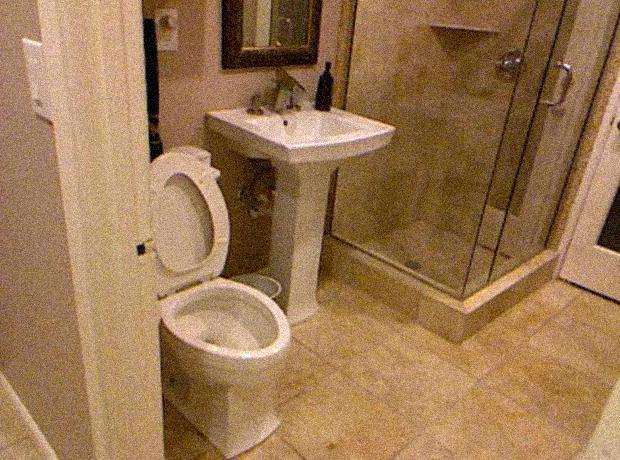Bote de Basura: (224, 269, 281, 336)
Ducha: (314, 2, 619, 348)
Lavamanos: (209, 73, 394, 331)
Sanitario: (115, 153, 289, 449)
